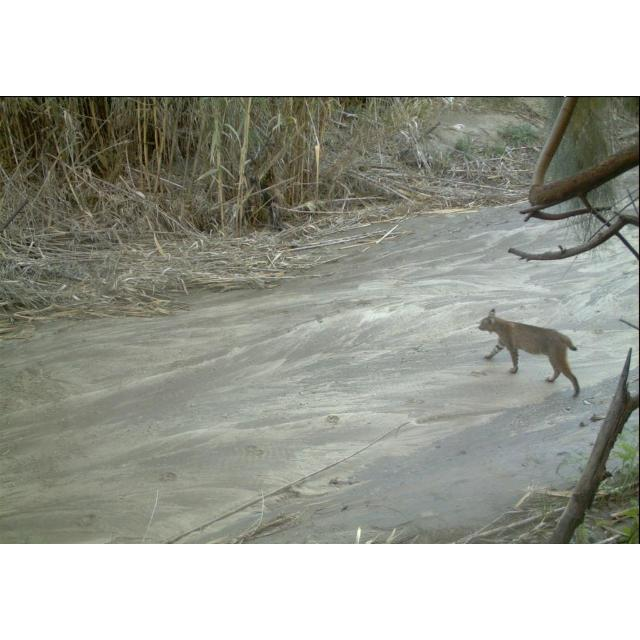animals: (478, 308, 584, 400)
